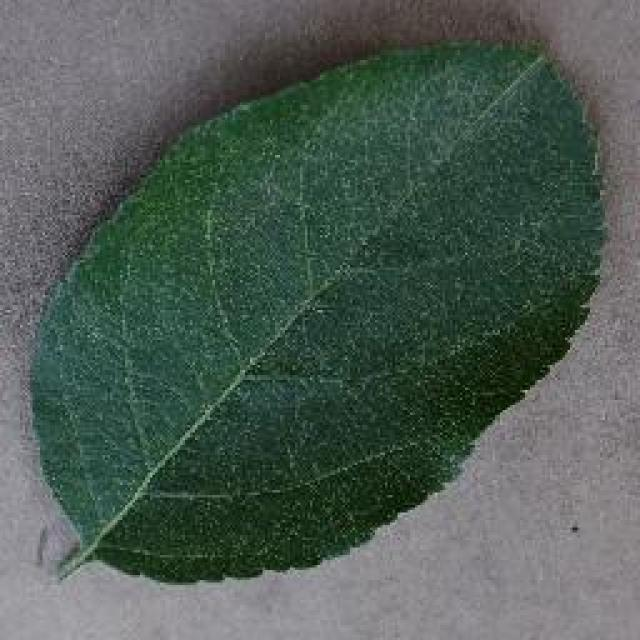apple healthy: (25, 33, 610, 585)
